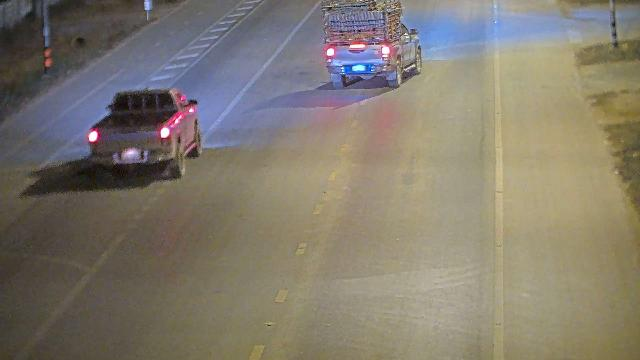pickup-truck: (86, 86, 202, 179), (320, 0, 422, 89)
